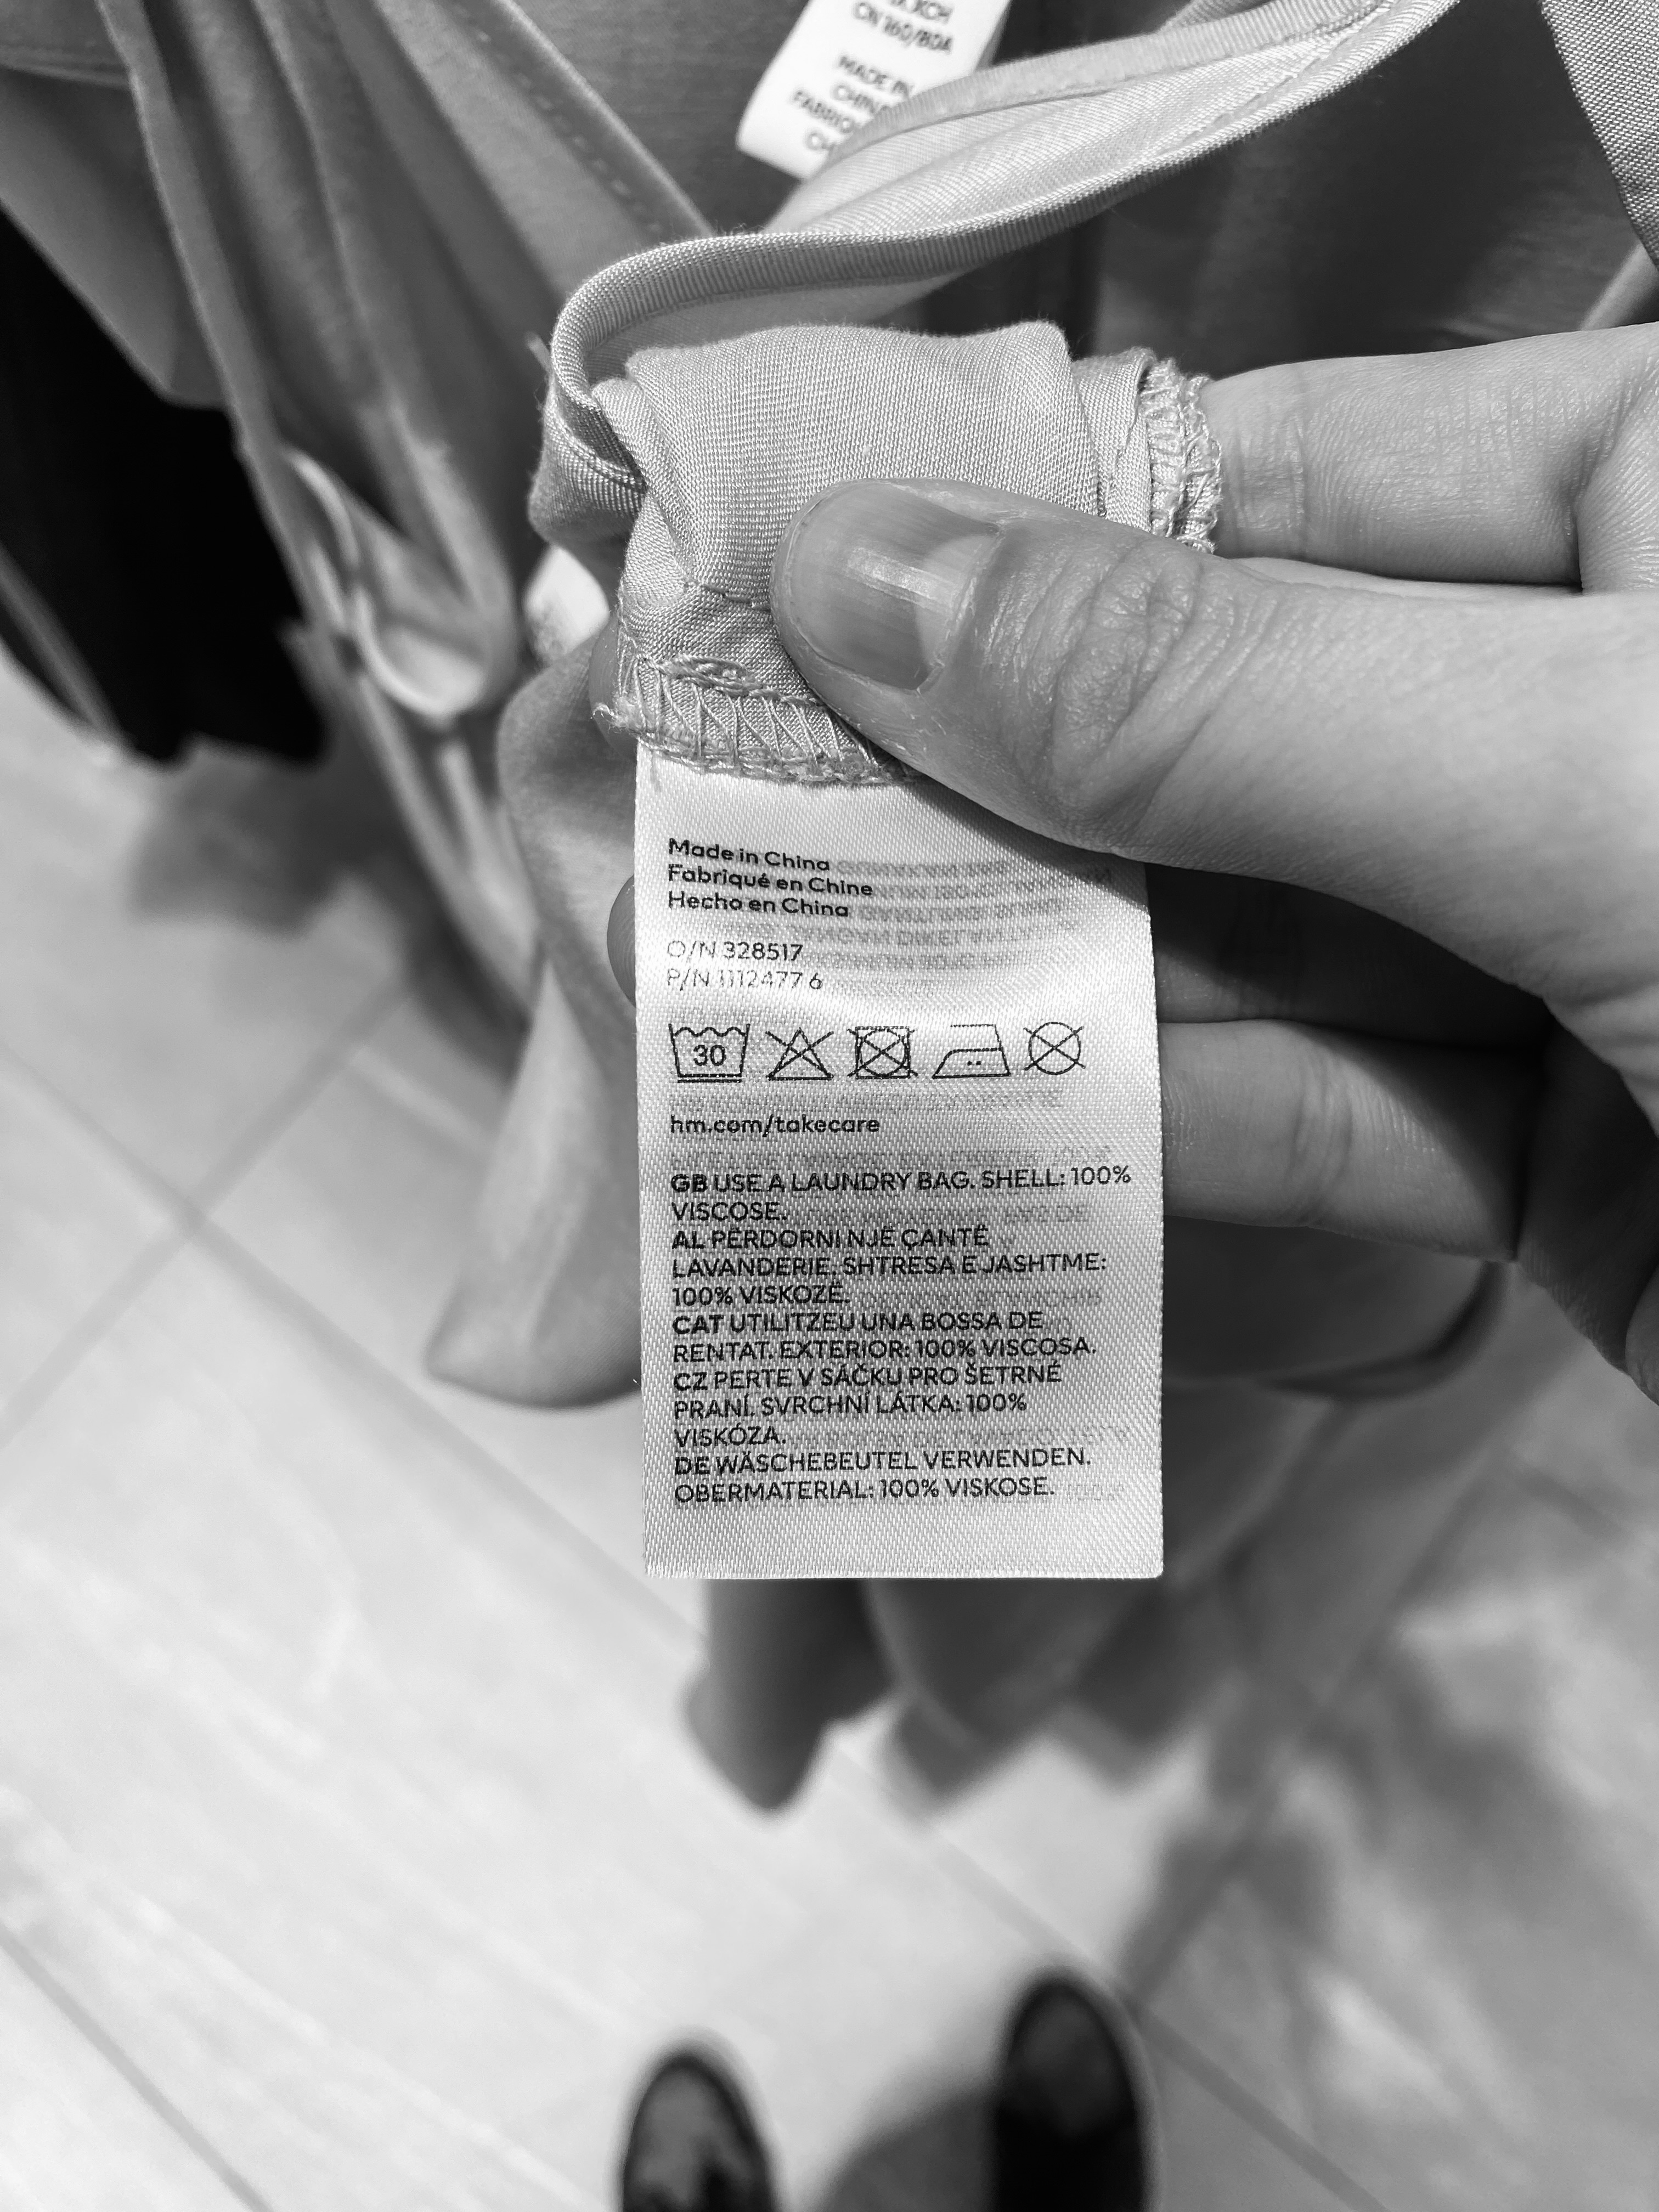icon: (666, 1021, 751, 1089), (758, 1021, 840, 1087), (931, 1021, 1018, 1080), (843, 1022, 922, 1082), (1019, 1019, 1089, 1078)
